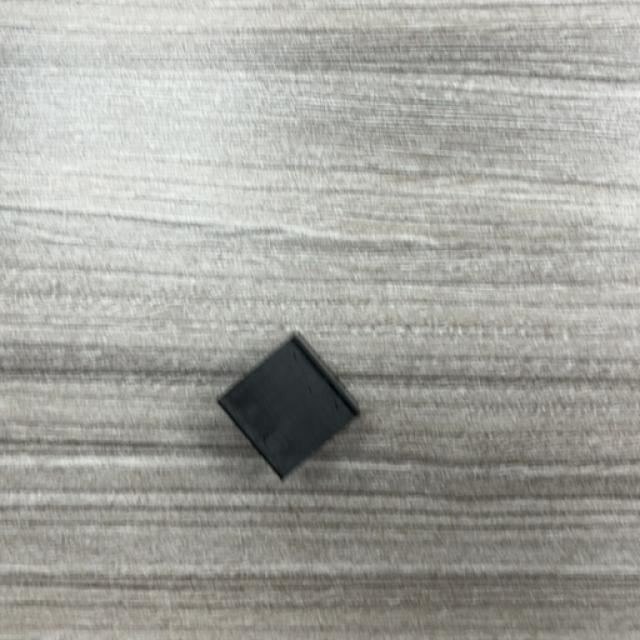Negro: (215, 332, 361, 481)
